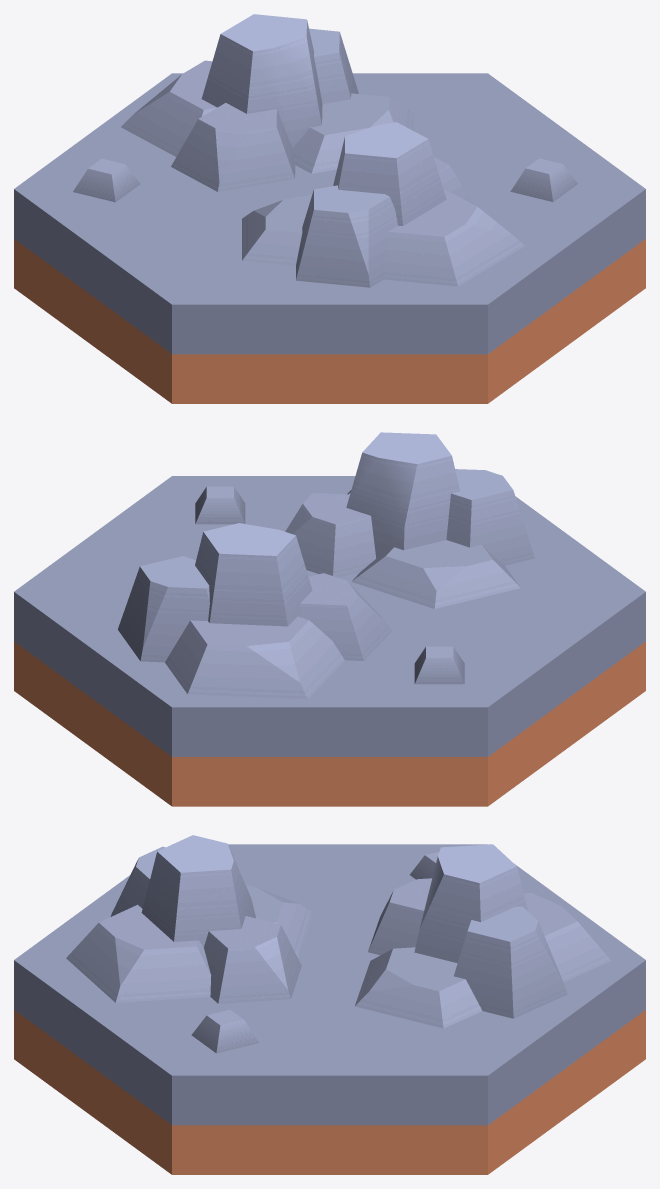
The model's file is stone-rocks.glb.
3 renders of one model, top to bottom at view 1: azimuth 30°, elevation 25°; view 2: azimuth 150°, elevation 25°; view 3: azimuth 270°, elevation 25°, orthographic.
Visible parts, largest first — view 1: stone-rocks; view 2: stone-rocks; view 3: stone-rocks.
Part boxes in pixels (bbox=[...]): stone-rocks: bbox=[14, 14, 645, 403]; stone-rocks: bbox=[14, 432, 645, 806]; stone-rocks: bbox=[14, 835, 645, 1174].
Bounding box in the file's own units: 10 × 4.06 × 11.55.
1 material, 1 textured.
